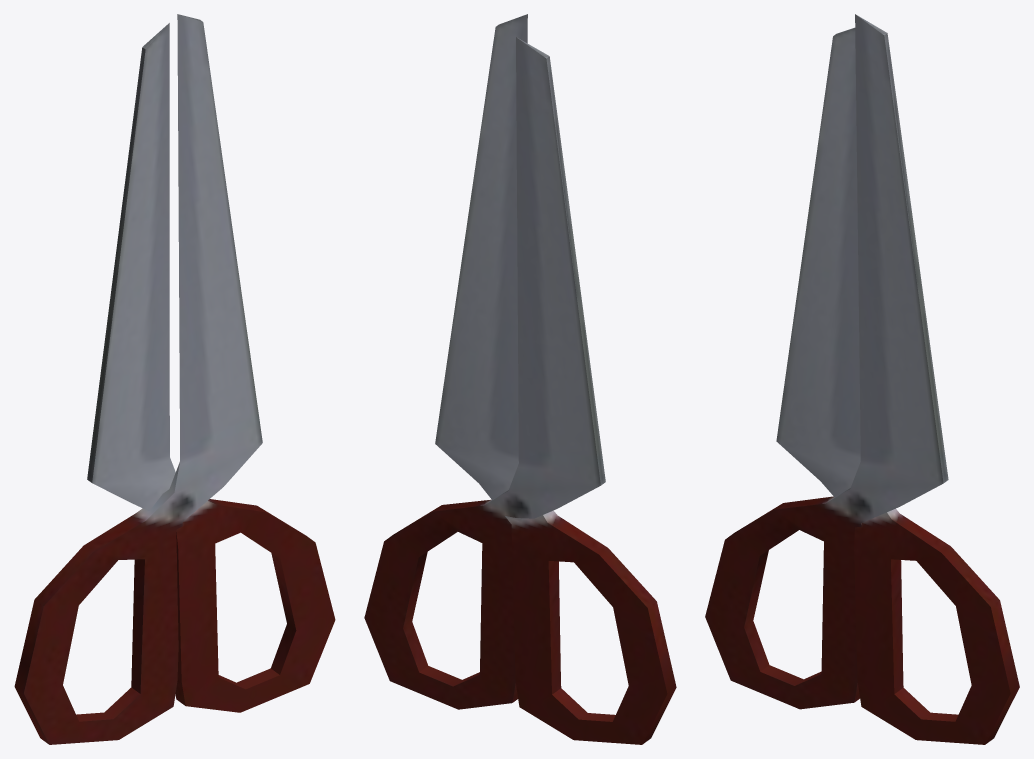
The model's file is sniksnak_02.obj.
The picture shows the model from 3 angles, left to right: view 1: azimuth 30°, elevation 25°; view 2: azimuth 150°, elevation 25°; view 3: azimuth 330°, elevation 25°; orthographic projection.
Parts seen in each view (by area): view 1: Object06, Object05; view 2: Object05, Object06; view 3: Object06, Object05.
Boxes of the visible parts, x1,y1,x2,y2 form: Object06: (14, 14, 262, 744); Object05: (87, 23, 335, 712); Object05: (364, 37, 605, 709); Object06: (435, 14, 676, 744); Object06: (705, 14, 948, 709); Object05: (776, 27, 1019, 744).
Bounding box in the file's own units: 8.78 × 19.35 × 0.5758.
1 material, 1 textured.
